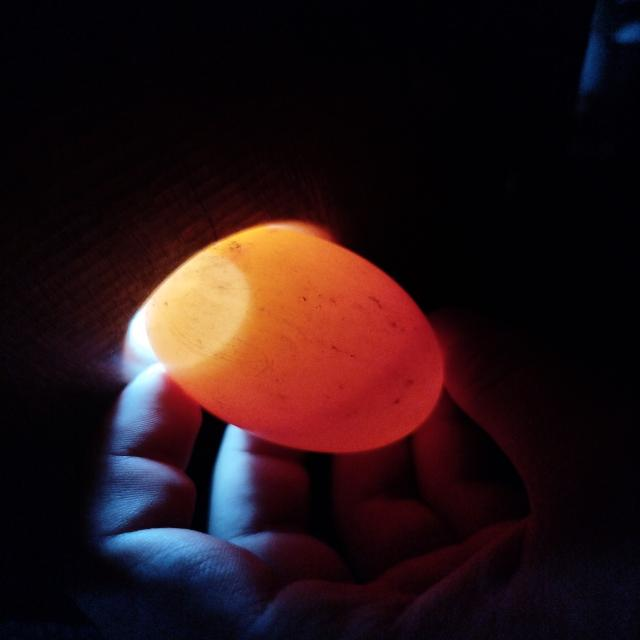Camara de Ar: (145, 249, 248, 369)
Gema Quebrada: (173, 229, 442, 452)
